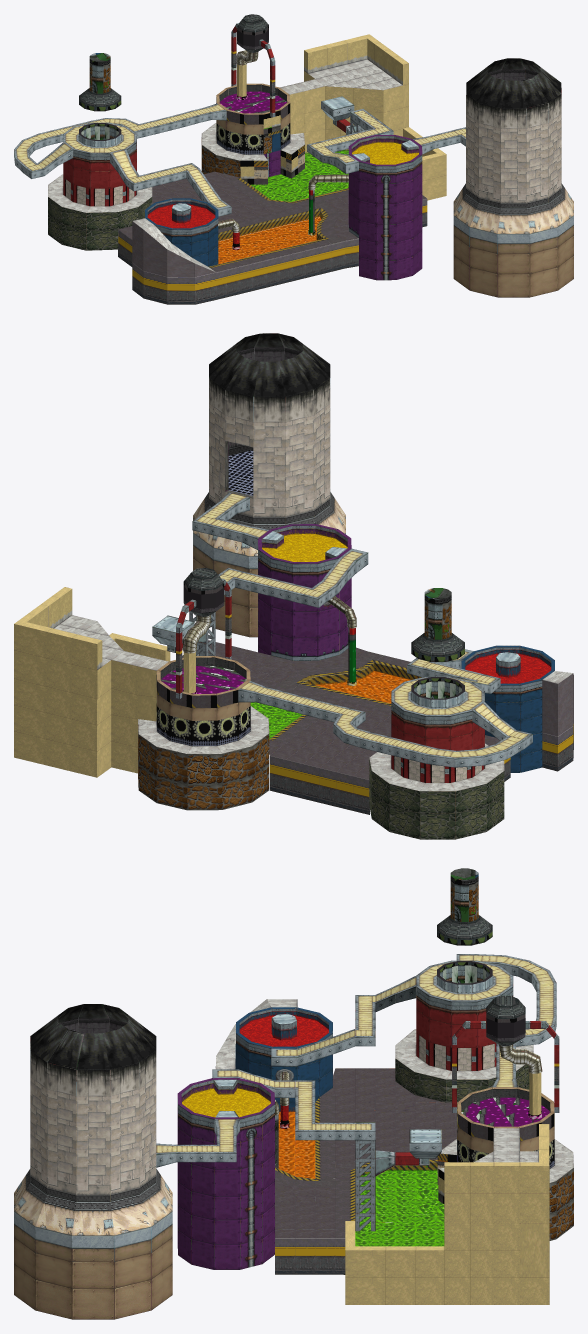
The model's file is test-zone2.glb.
The picture shows the model from 3 angles, top to bottom: view 1: azimuth 30°, elevation 25°; view 2: azimuth 150°, elevation 25°; view 3: azimuth 270°, elevation 25°; orthographic projection. The views are drawn at different scales.
Parts seen in each view (by area): view 1: Frame_0.010; view 2: Frame_0.010; view 3: Frame_0.010.
Part boxes in pixels (left/top/right/bottom): Frame_0.010: left=14, top=14, right=573, bottom=304; Frame_0.010: left=14, top=333, right=573, bottom=839; Frame_0.010: left=14, top=868, right=573, bottom=1319.
Bounding box in the file's own units: 151 × 77.22 × 139.
Materials: 1 (1 with a texture image).
